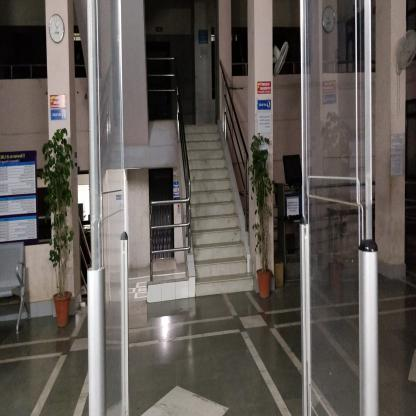stairs: (200, 148, 225, 300)
